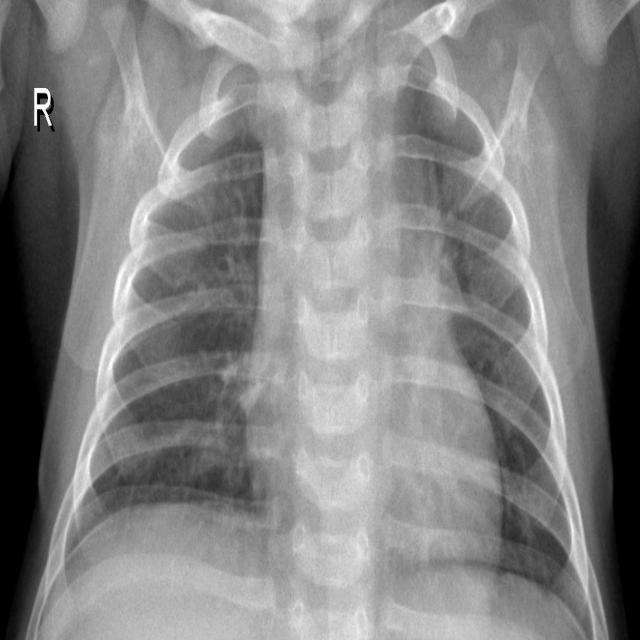no-pneumonia: (393, 84, 592, 625), (65, 80, 266, 556)
